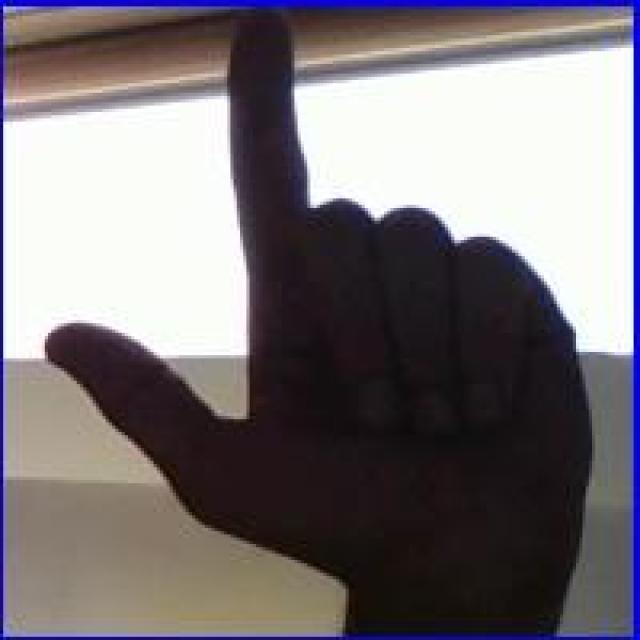L: (35, 11, 618, 597)
